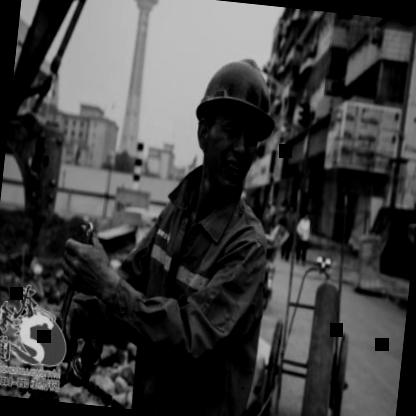helmet: (170, 40, 286, 201)
